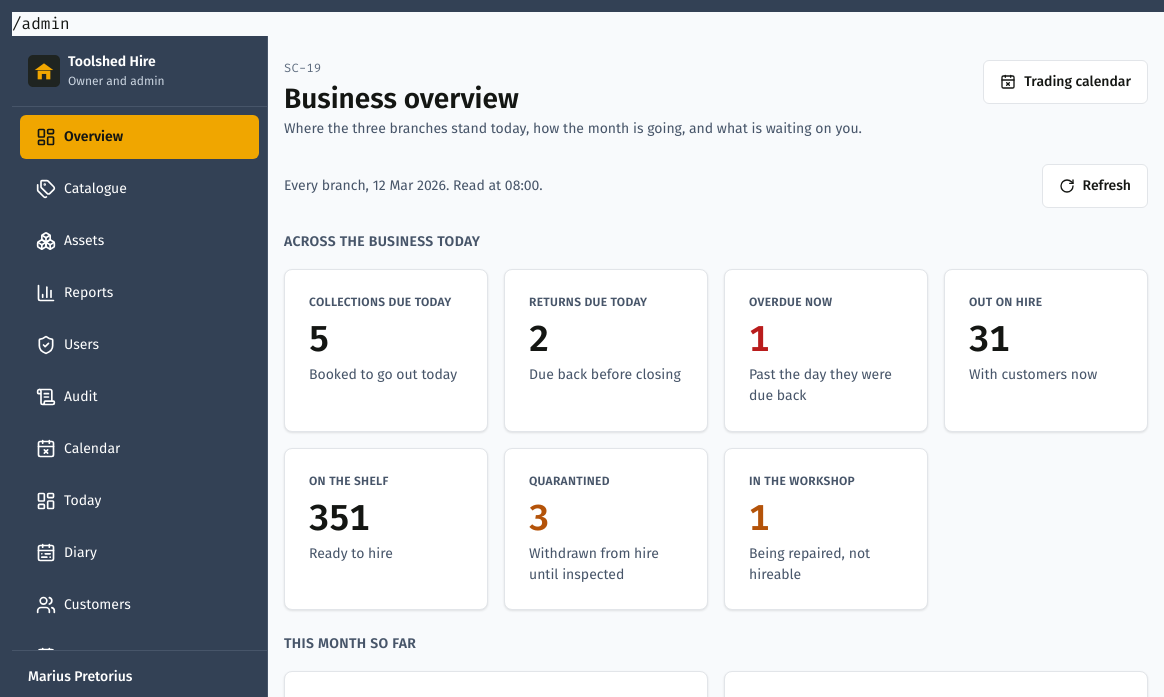
Test: reading the figures again › reads them again on the refresh button
Click the button "Refresh".
click(1095, 186)  # box [1042,164,1148,208]
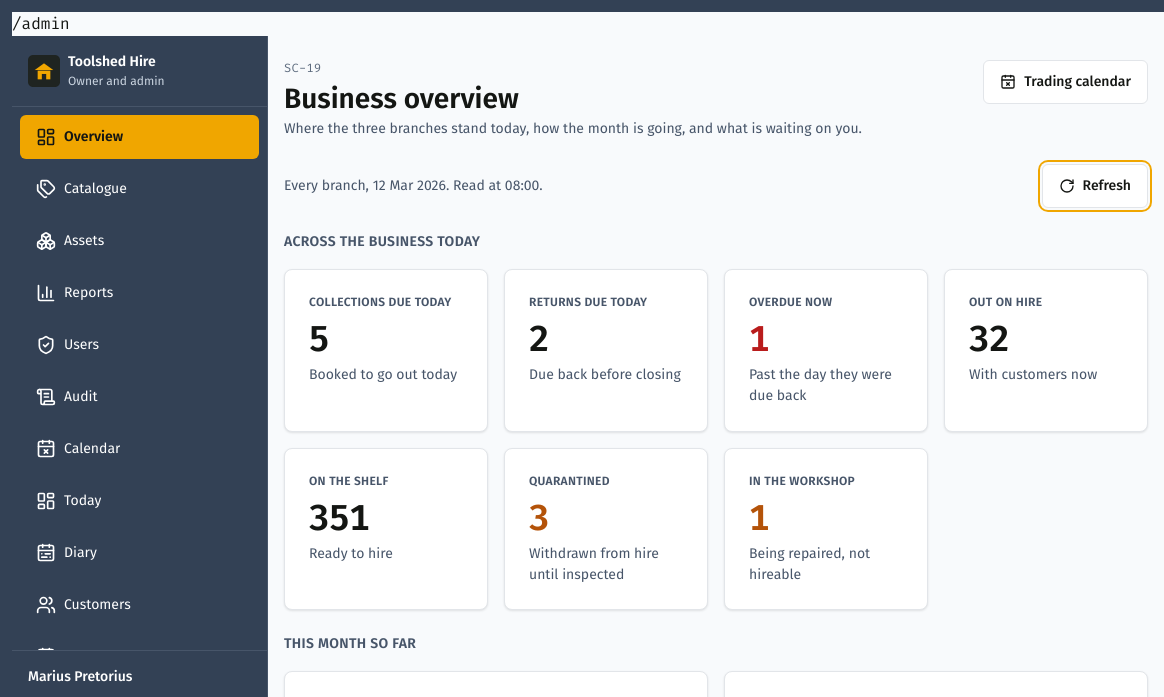
Result: the text "Out on hire" shows "32" at [969,317,1009,361]
